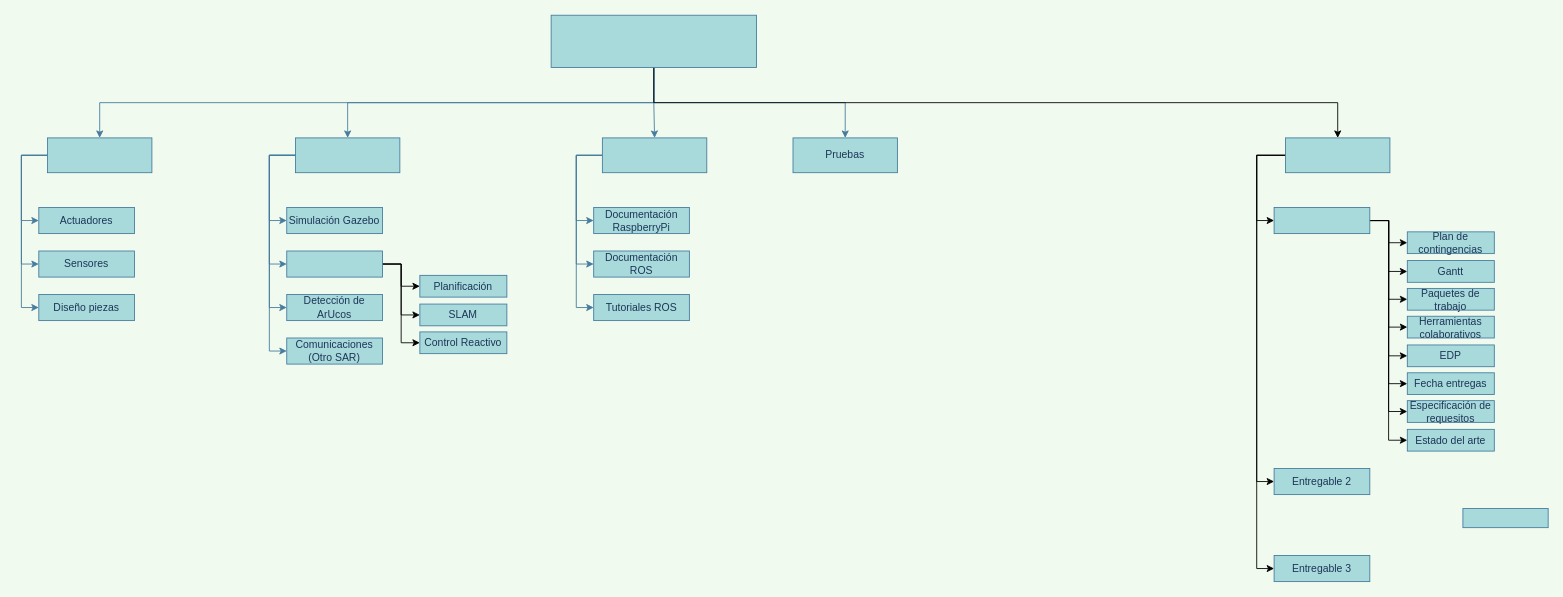
Some shapes in this 1563 by 597 pixel diagram are drawn without their labels. The shapes that lost their labels are listed below. From the top down, each one's centre as x and y in pixels, then its label:
At point (653, 40): "Search and Rescue Project (SAR)".
At point (99, 155): "Hardware".
At point (347, 155): "Software".
At point (654, 155): "Formación".
At point (1337, 155): "Documentación".
At point (1321, 220): "Entregable 1".
At point (334, 263): "Navegación".
